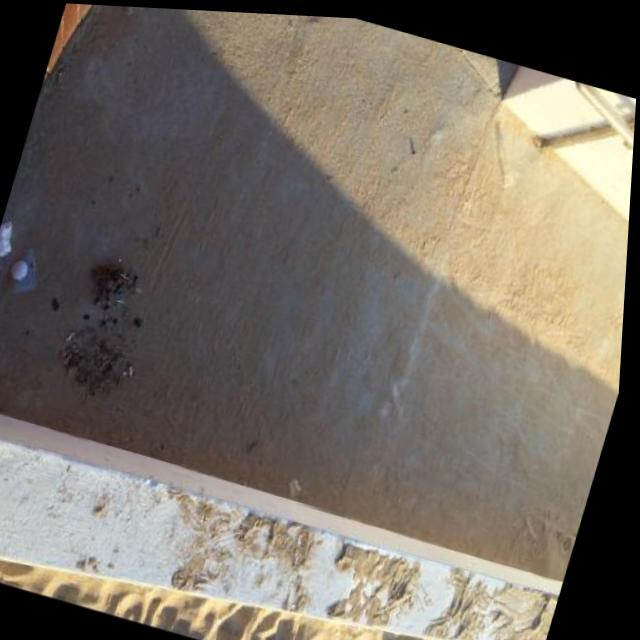paper: (0, 219, 20, 266), (284, 477, 304, 500)
plastic: (500, 172, 517, 194)
